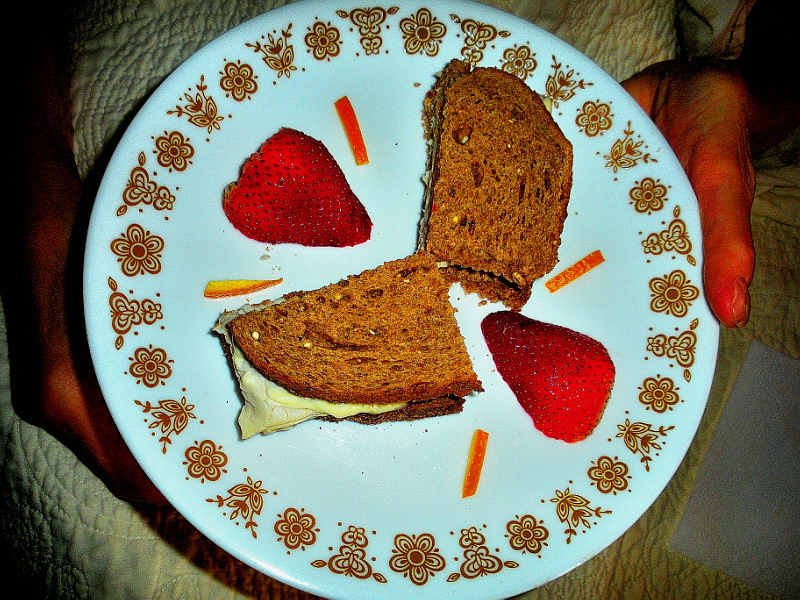slice of bread: (230, 257, 463, 426), (431, 63, 558, 297)
